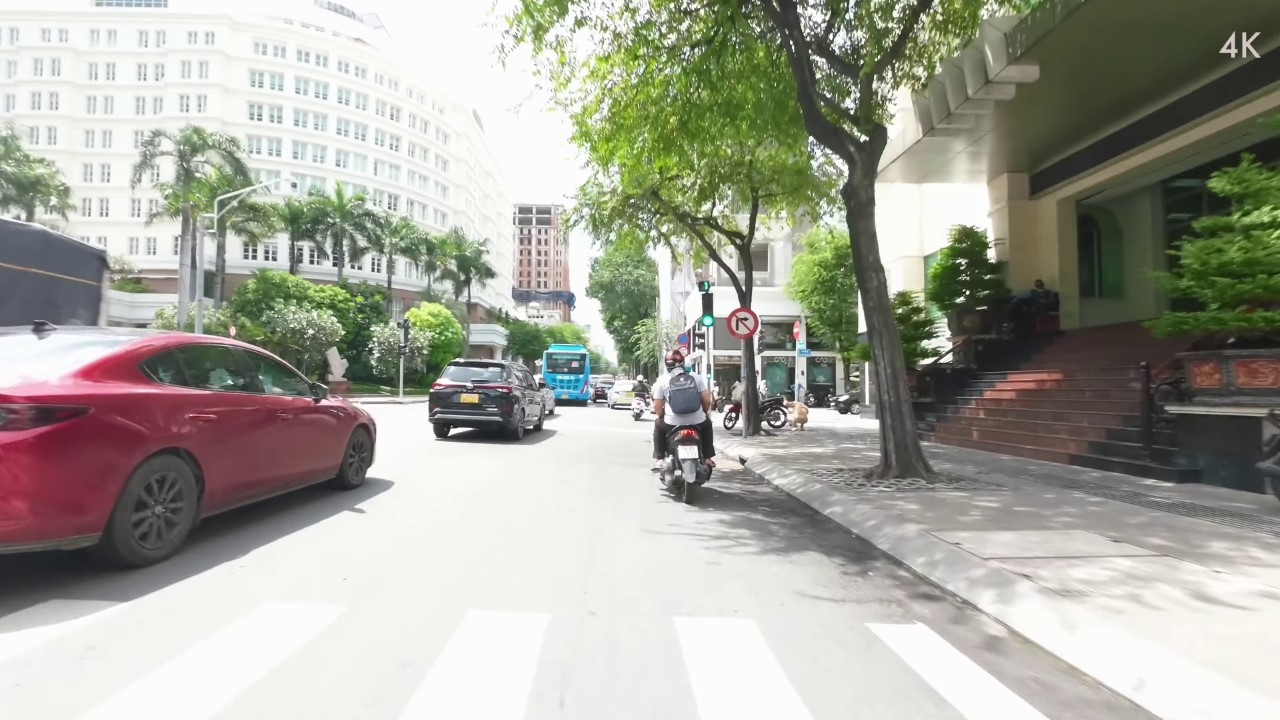cam_re_phai: (727, 306, 760, 339)
